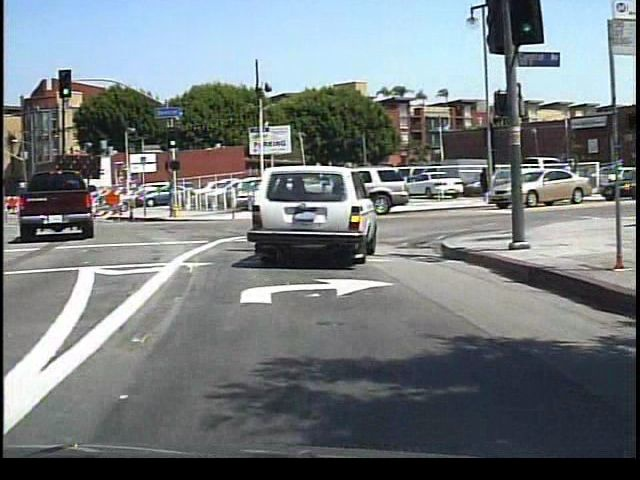person: (475, 163, 487, 200)
